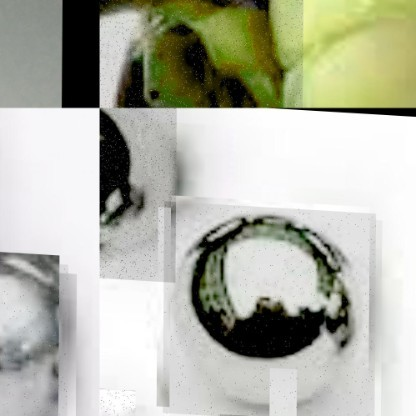ironball: (162, 199, 375, 415), (99, 0, 303, 107), (99, 107, 176, 280), (0, 253, 68, 415), (99, 386, 135, 415)
